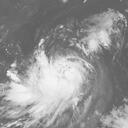cyclone: (29, 56, 88, 108)
